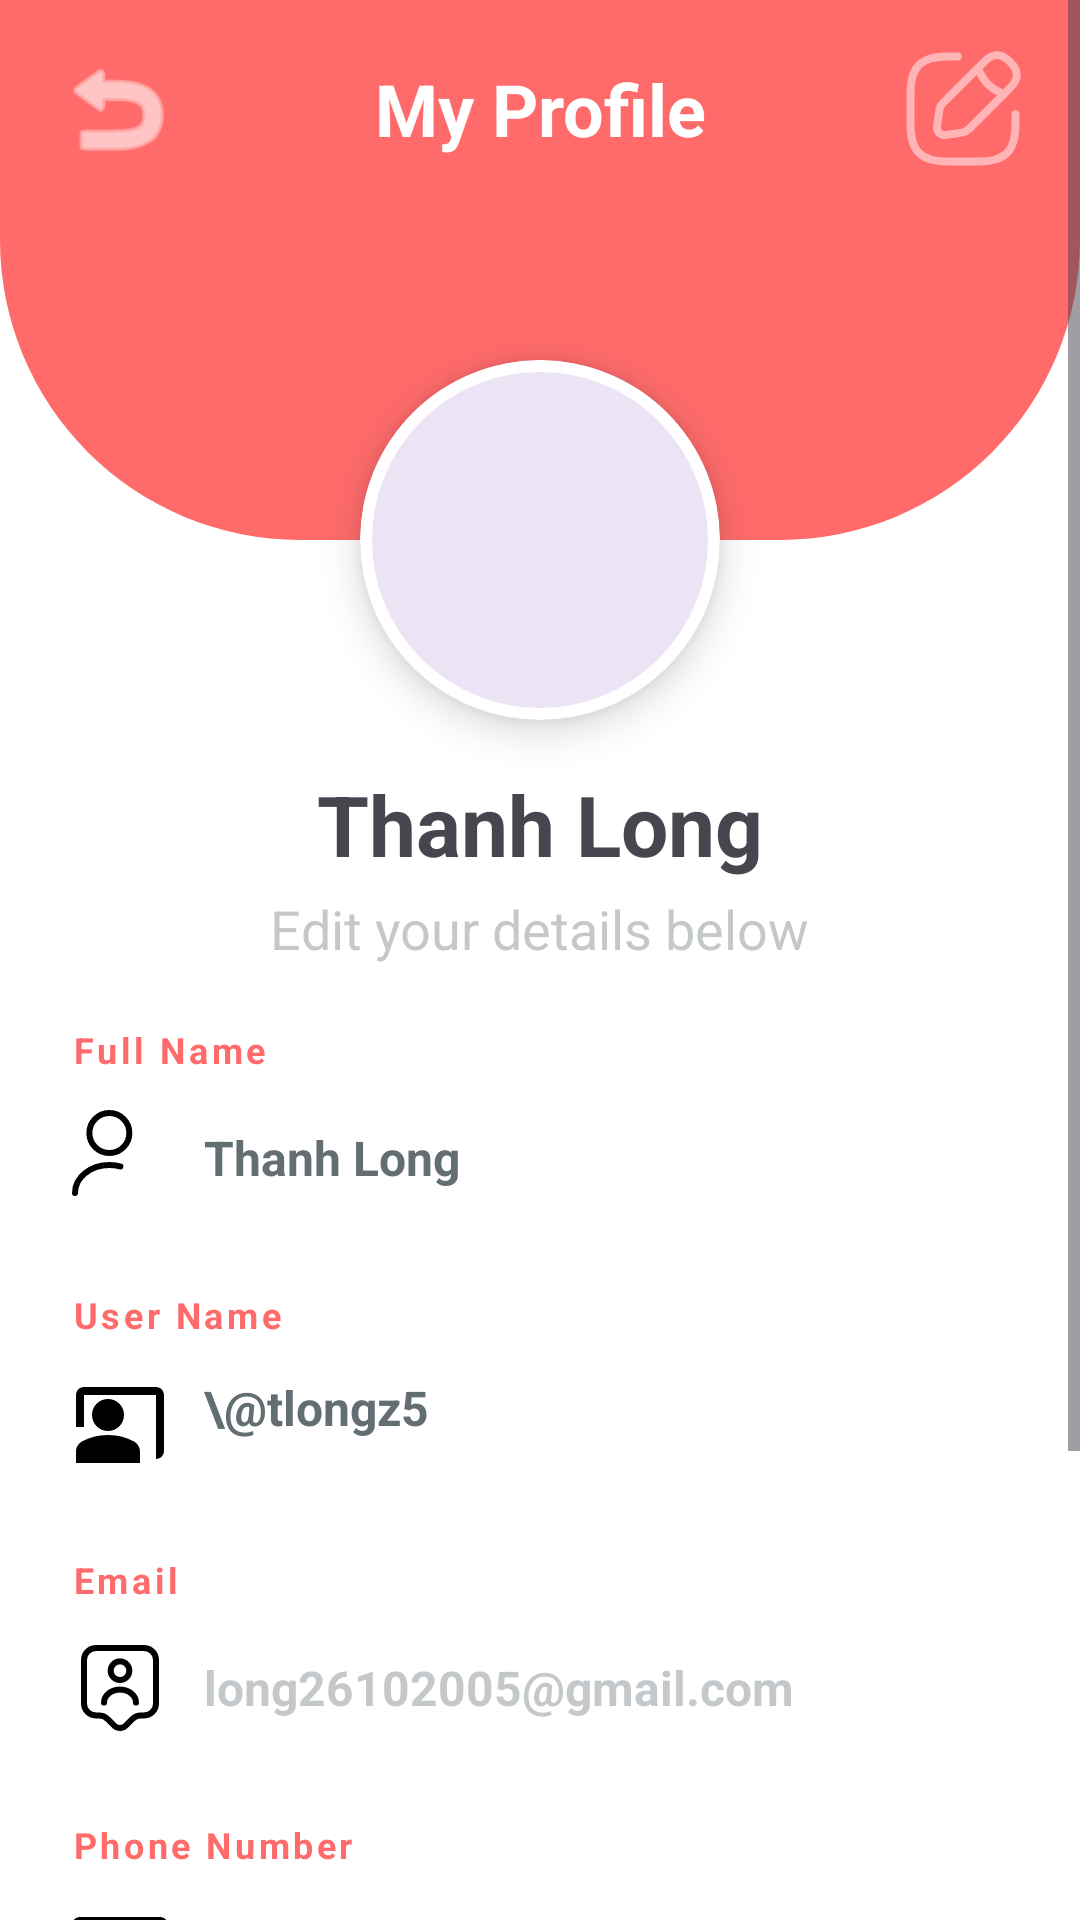

Locate icon controls on the screen. Image size 1080*1920, boxes as (x1, y1, x2, y2).
revert: (73, 69, 164, 151)
